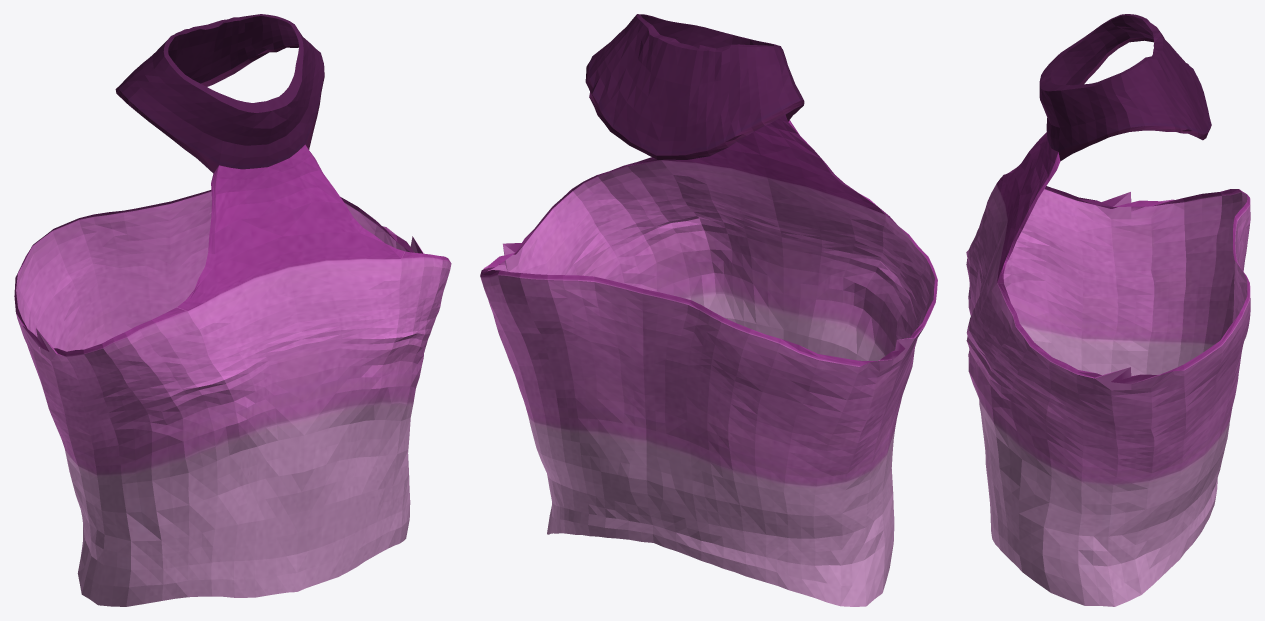
Rendered from mhw_toigo_turtleneck_halter_top.glb.
3 views of the same model, side by side, from view 1: azimuth 30°, elevation 25°; view 2: azimuth 150°, elevation 25°; view 3: azimuth 270°, elevation 25° (orthographic). The views are drawn at different scales.
Parts seen in each view (by area): view 1: mhw_toigo_turtleneck_halter_top; view 2: mhw_toigo_turtleneck_halter_top; view 3: mhw_toigo_turtleneck_halter_top.
Part boxes in pixels (bbox=[...]): mhw_toigo_turtleneck_halter_top: bbox=[14, 14, 451, 606]; mhw_toigo_turtleneck_halter_top: bbox=[480, 14, 937, 606]; mhw_toigo_turtleneck_halter_top: bbox=[966, 14, 1250, 606].
Bounding box in the file's own units: 0.3751 × 0.4961 × 0.257.
Materials: 1 (1 with a texture image).
